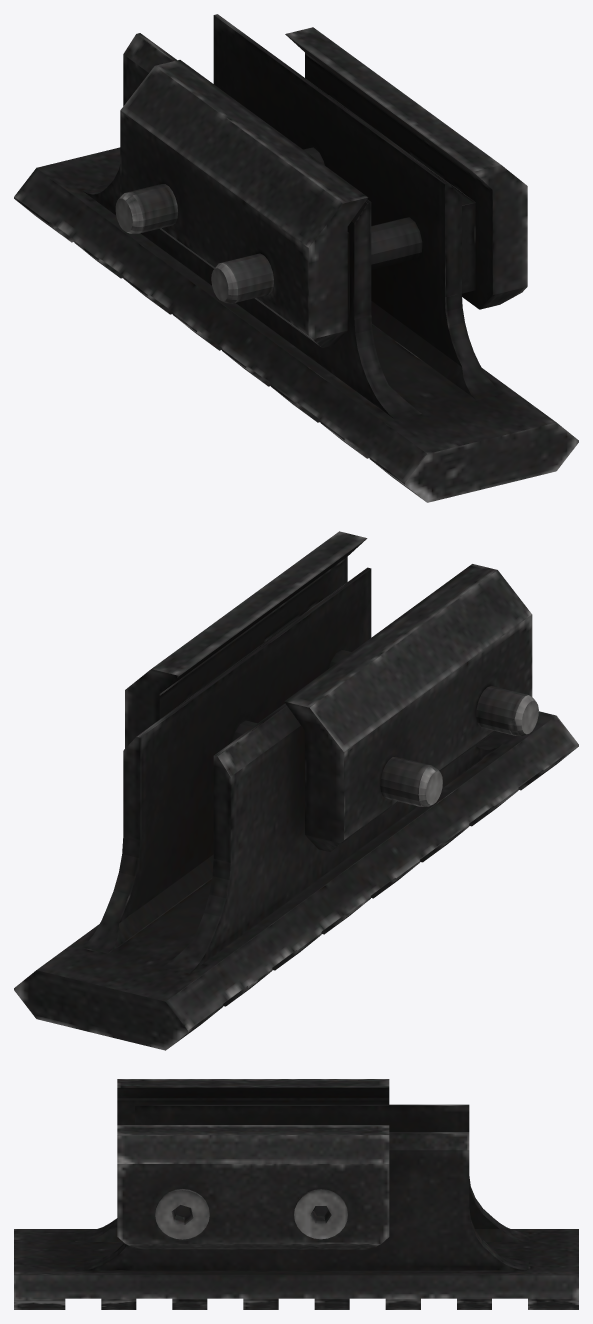
3 views of the same model, one above another, from view 1: azimuth 30°, elevation 25°; view 2: azimuth 150°, elevation 25°; view 3: azimuth 270°, elevation 25° (orthographic). The views are drawn at different scales.
Parts seen in each view (by area): view 1: TW_57ffb0062459777a045af529_PZ_Import; view 2: TW_57ffb0062459777a045af529_PZ_Import; view 3: TW_57ffb0062459777a045af529_PZ_Import.
Boxes of the visible parts, bbox=[...] form: TW_57ffb0062459777a045af529_PZ_Import: bbox=[14, 14, 578, 502]; TW_57ffb0062459777a045af529_PZ_Import: bbox=[14, 531, 578, 1050]; TW_57ffb0062459777a045af529_PZ_Import: bbox=[14, 1079, 578, 1309].
Bounding box in the file's own units: 0.0186 × 0.0474 × 0.0167.
1 material, 1 textured.
